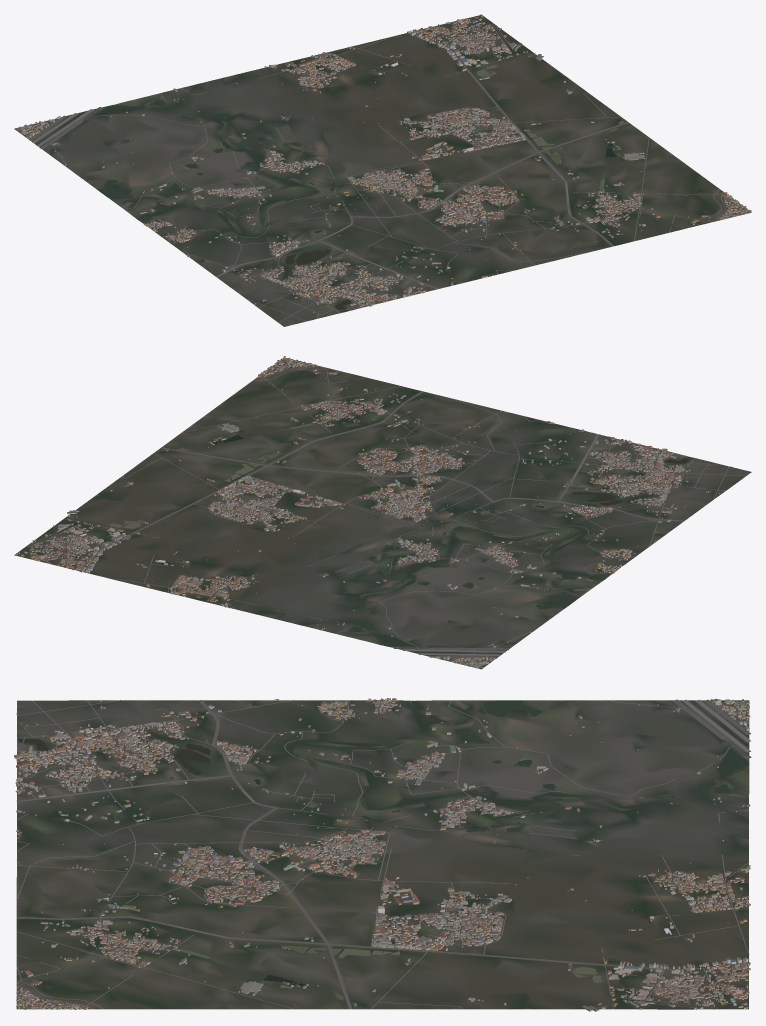
The picture shows the model from 3 angles, top to bottom: view 1: azimuth 30°, elevation 25°; view 2: azimuth 150°, elevation 25°; view 3: azimuth 270°, elevation 25°; orthographic projection. The views are drawn at different scales.
Visible parts, largest first — view 1: ground, buildings, roads, water; view 2: ground, buildings, roads, water; view 3: ground, buildings, roads, water.
Boxes of the visible parts, x1=… form: ground: x1=14, y1=15, x2=751, y2=326; buildings: x1=16, y1=14, x2=751, y2=321; roads: x1=16, y1=21, x2=749, y2=322; water: x1=98, y1=65, x2=624, y2=311; ground: x1=14, y1=358, x2=751, y2=669; buildings: x1=15, y1=356, x2=731, y2=667; roads: x1=27, y1=358, x2=745, y2=668; water: x1=110, y1=423, x2=691, y2=643; ground: x1=16, y1=700, x2=749, y2=1009; buildings: x1=14, y1=698, x2=750, y2=1011; roads: x1=16, y1=699, x2=751, y2=1009; water: x1=18, y1=700, x2=745, y2=988.
Bounding box in the file's own units: 2828 × 25.03 × 2825.
